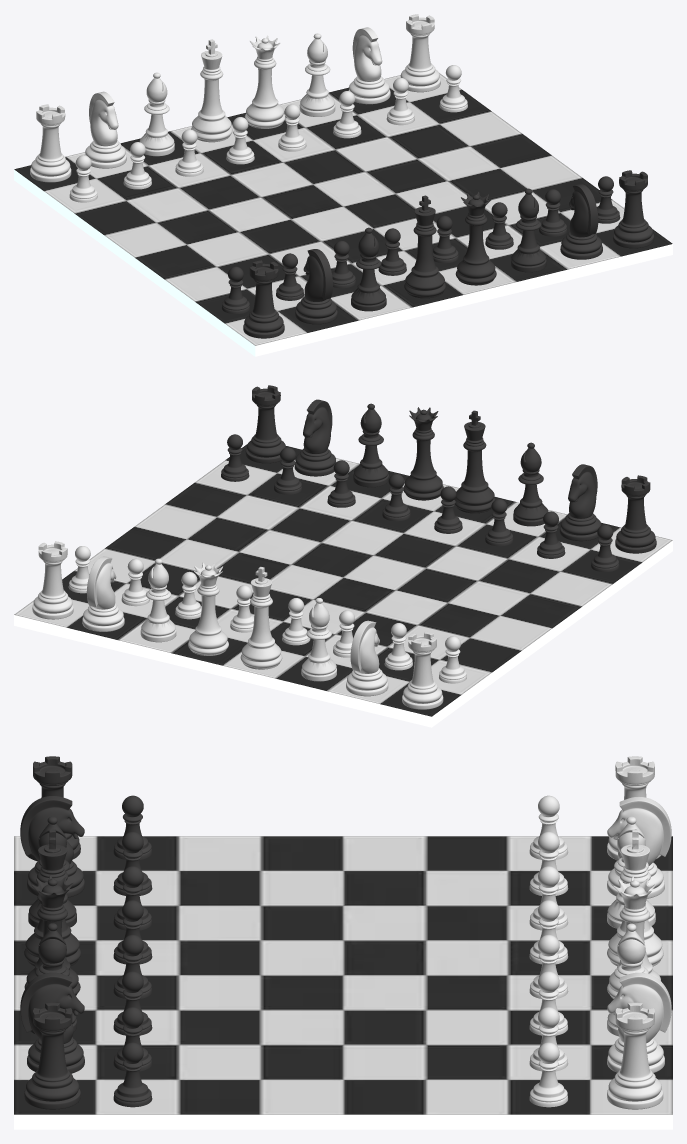
File: chess-optimized-board.glb
3 renders of one model, top to bottom at view 1: azimuth 30°, elevation 25°; view 2: azimuth 150°, elevation 25°; view 3: azimuth 270°, elevation 25°, orthographic. The views are drawn at different scales.
Parts seen in each view (by area): view 1: Cube, King.001, King, Knight, Knight.001, Knight.002, Knight.003, queen.002, queen.001, Rook.003, Rook.004, Rook.001 (+21 smaller); view 2: Cube, King, King.001, Knight.002, Knight.003, Knight.001, Knight, queen.001, queen.002, Rook.002, Rook.004, Rook.003 (+21 smaller); view 3: Cube, Rook.002, Rook.001, Knight, Knight.002, Knight.001, Knight.003, King.001, King, queen.001, queen.002, Pawn.016 (+21 smaller).
Boxes of the visible parts, x1,y1,x2,y2 form: Cube: [14, 73, 672, 356]; King.001: [404, 195, 445, 298]; King: [191, 39, 232, 142]; Knight: [348, 27, 390, 104]; Knight.001: [85, 91, 126, 168]; Knight.002: [560, 184, 602, 259]; Knight.003: [295, 249, 337, 324]; queen.002: [455, 192, 496, 285]; queen.001: [244, 35, 285, 128]; Rook.003: [30, 104, 71, 182]; Rook.004: [243, 260, 284, 338]; Rook.001: [613, 170, 654, 248]; Cube: [14, 444, 672, 727]; King: [240, 566, 282, 669]; King.001: [454, 410, 495, 513]; Knight.002: [294, 399, 336, 476]; Knight.003: [559, 464, 601, 541]; Knight.001: [346, 620, 388, 696]; Knight: [82, 556, 124, 631]; queen.001: [188, 563, 228, 655]; queen.002: [403, 407, 443, 500]; Rook.002: [32, 541, 73, 619]; Rook.004: [615, 475, 656, 553]; Rook.003: [402, 631, 443, 709]; Cube: [14, 836, 672, 1129]; Rook.002: [607, 1002, 663, 1109]; Rook.001: [24, 1002, 80, 1109]; Knight: [607, 972, 671, 1072]; Knight.002: [20, 972, 84, 1073]; Knight.001: [607, 796, 671, 898]; Knight.003: [20, 796, 84, 897]; King.001: [24, 829, 80, 966]; King: [607, 829, 663, 966]; queen.001: [607, 876, 660, 998]; queen.002: [24, 875, 80, 995]; Pawn.016: [113, 1042, 152, 1107].
Size of the model in its own units: 25.43 by 6.1 by 25.43.
4 materials, 1 textured.
